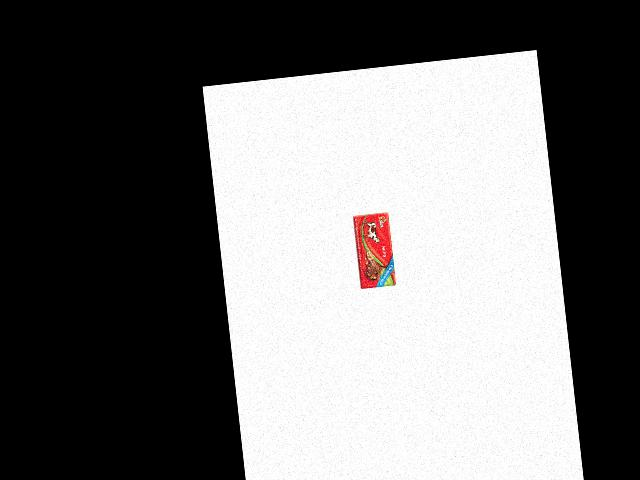chocolate: (353, 208, 396, 288)
